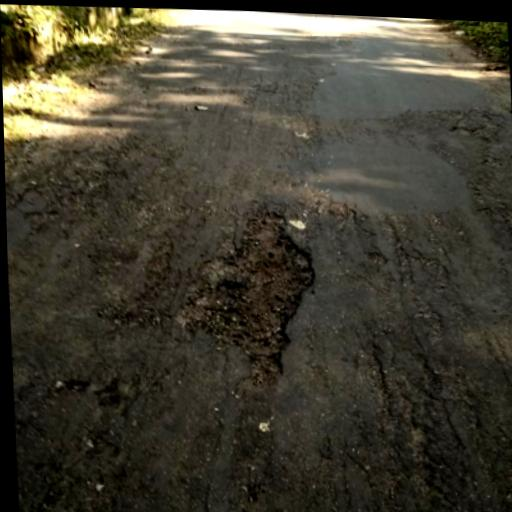pothole: (171, 194, 326, 392)
